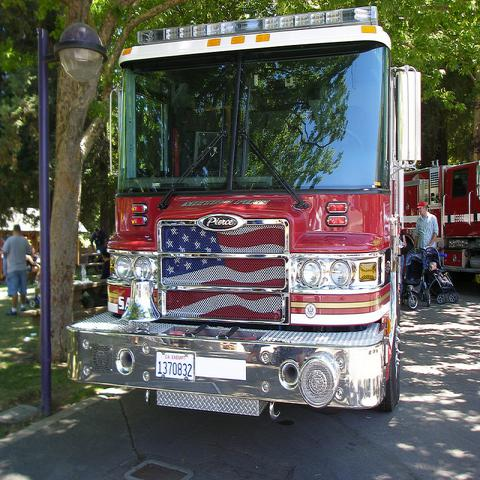truck: (64, 8, 424, 418), (400, 161, 479, 287)
